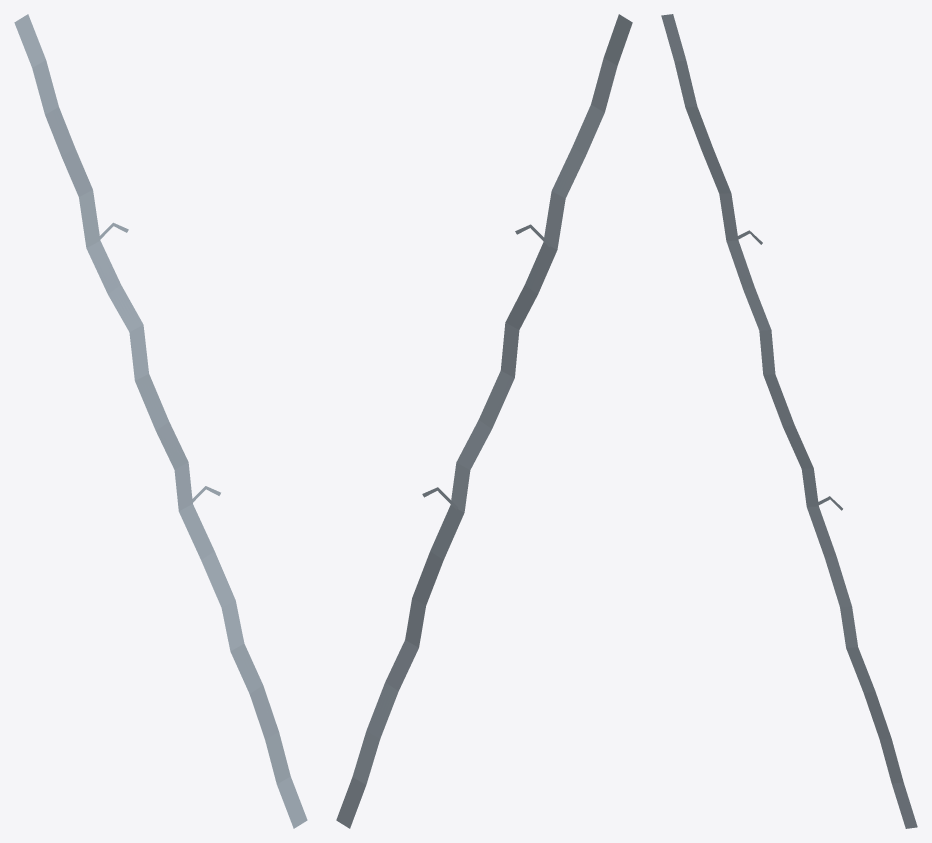
Rendered from Fischl_OzAttack_Overall_ElectricShot62.fbx.
3 renders of one model, left to right at view 1: azimuth 30°, elevation 25°; view 2: azimuth 150°, elevation 25°; view 3: azimuth 330°, elevation 25°, orthographic. The views are drawn at different scales.
Parts seen in each view (by area): view 1: PART_ElectricShot62_VioletCorona, PART_ElectricShot62_SharpWhiteVioletCore; view 2: PART_ElectricShot62_VioletCorona, PART_ElectricShot62_SharpWhiteVioletCore; view 3: PART_ElectricShot62_VioletCorona, PART_ElectricShot62_SharpWhiteVioletCore.
Part boxes in pixels (left/top/right/bottom): PART_ElectricShot62_VioletCorona: left=14, top=14, right=307, bottom=828; PART_ElectricShot62_SharpWhiteVioletCore: left=19, top=17, right=302, bottom=825; PART_ElectricShot62_VioletCorona: left=336, top=14, right=632, bottom=828; PART_ElectricShot62_SharpWhiteVioletCore: left=341, top=17, right=628, bottom=825; PART_ElectricShot62_VioletCorona: left=661, top=14, right=917, bottom=828; PART_ElectricShot62_SharpWhiteVioletCore: left=665, top=14, right=913, bottom=828.
Size of the model in its own units: 163 by 464 by 3.64.
